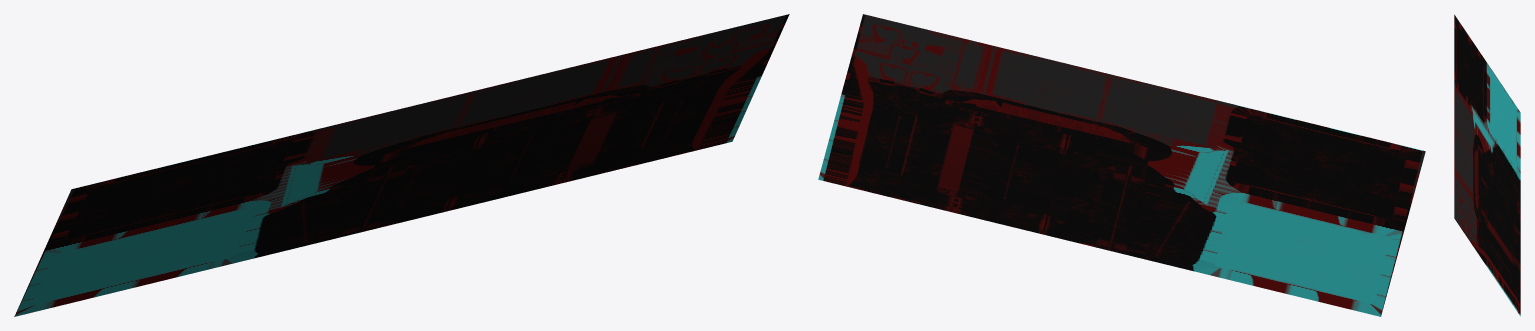
File: PDAEnemyCounter.fbx
The picture shows the model from 3 angles, left to right: view 1: azimuth 30°, elevation 25°; view 2: azimuth 150°, elevation 25°; view 3: azimuth 270°, elevation 25°; orthographic projection. The views are drawn at different scales.
Parts seen in each view (by area): view 1: polySurface21; view 2: polySurface21; view 3: polySurface21.
Part boxes in pixels (<box>): polySurface21: <box>14,14,789,316</box>; polySurface21: <box>818,14,1425,316</box>; polySurface21: <box>1454,14,1520,316</box>.
Bounding box in the file's own units: 0.1839 × 0.0415 × 0.0254.
1 material, 1 textured.
